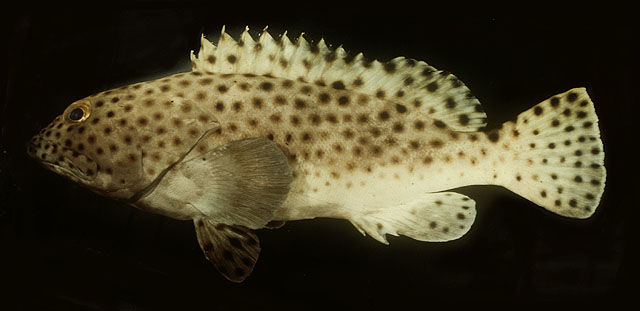fish: (26, 24, 607, 284)
